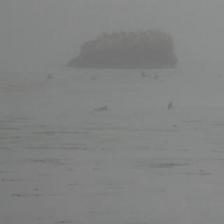surfer: (95, 106, 108, 111), (166, 102, 174, 110), (140, 72, 149, 78), (154, 74, 160, 81), (216, 73, 222, 79), (90, 75, 96, 81), (46, 74, 53, 79)
